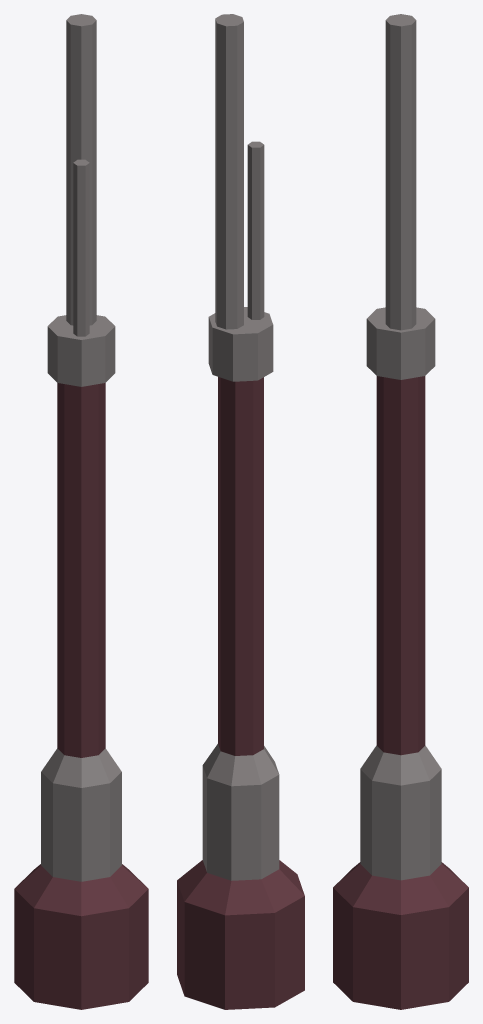
The model's file is scifi-pole.fbx.
3 renders of one model, left to right at view 1: azimuth 90°, elevation 25°; view 2: azimuth 210°, elevation 25°; view 3: azimuth 270°, elevation 25°, orthographic.
Parts seen in each view (by area): view 1: scifi-pole; view 2: scifi-pole; view 3: scifi-pole.
Part boxes in pixels (bbox=[...]): scifi-pole: bbox=[14, 14, 148, 1009]; scifi-pole: bbox=[177, 14, 304, 1009]; scifi-pole: bbox=[333, 14, 468, 1009].
Size of the model in its own units: 0.6 by 4.9 by 0.624.
